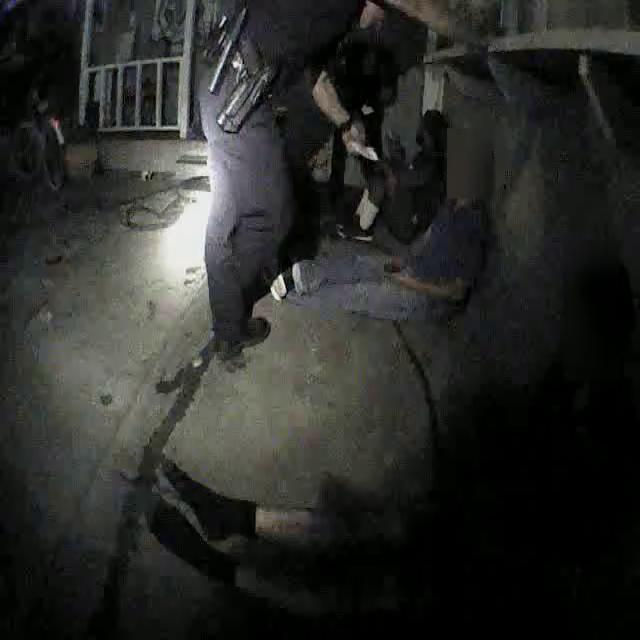gun: (204, 30, 285, 139)
